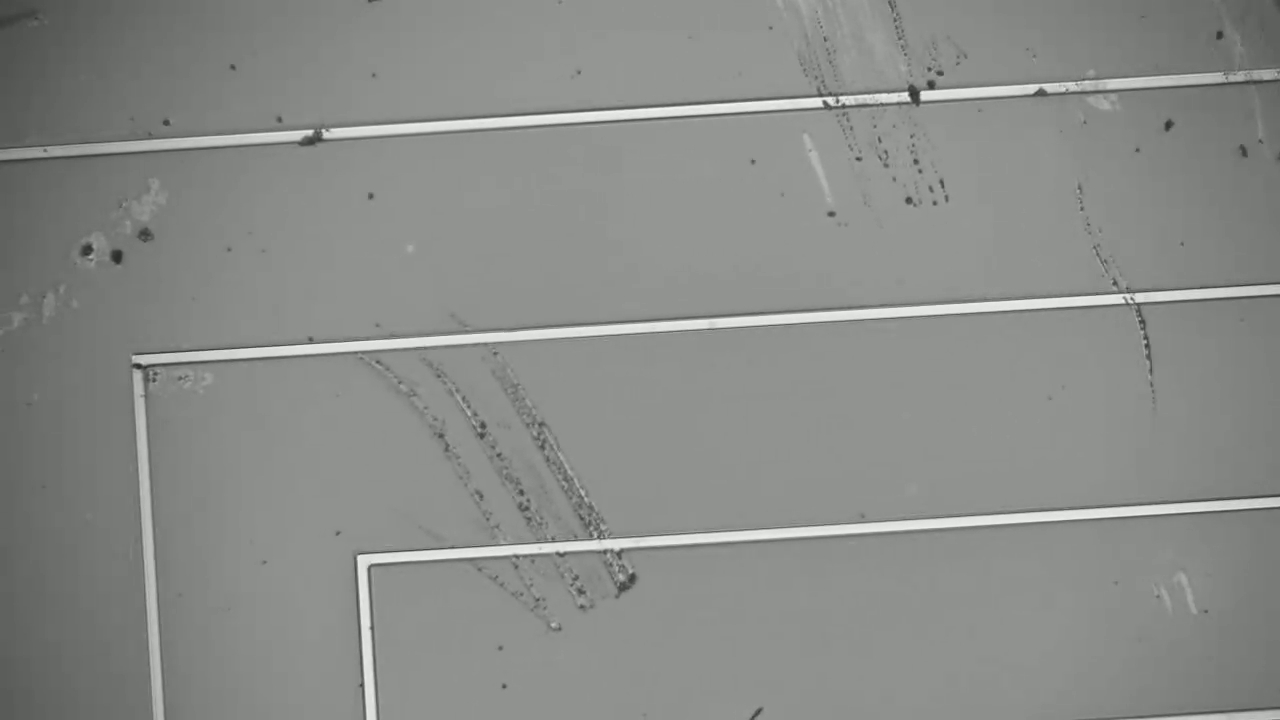scratch: (347, 331, 656, 633), (1063, 184, 1172, 404)
stains_enbedded: (293, 119, 334, 155), (904, 77, 930, 108)
